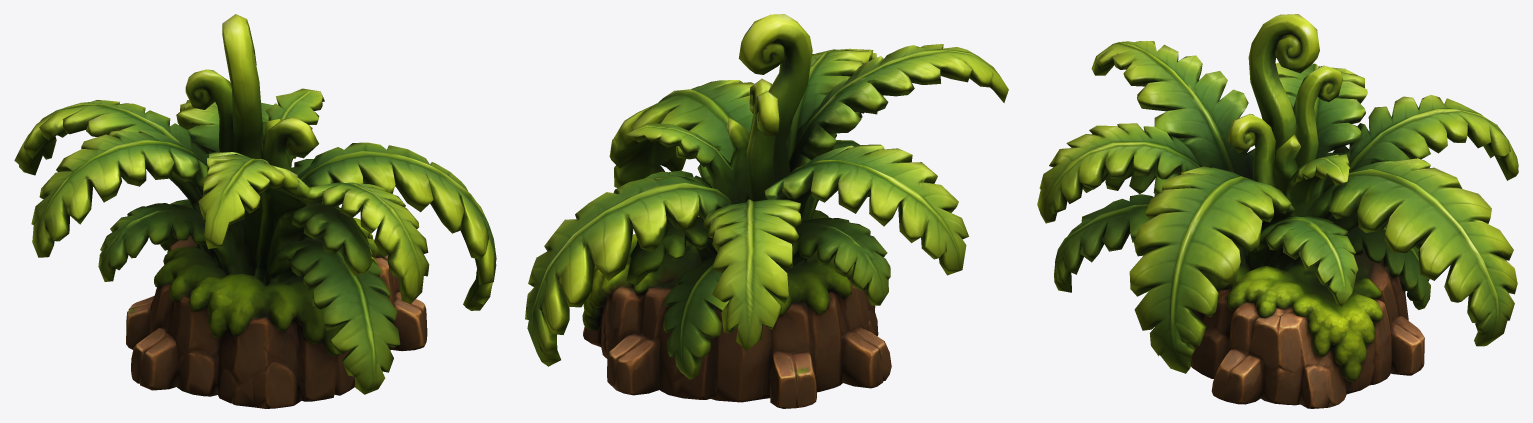
File: Kit_W_Fern_HD_src.glb
3 renders of one model, left to right at view 1: azimuth 30°, elevation 25°; view 2: azimuth 150°, elevation 25°; view 3: azimuth 270°, elevation 25°, orthographic. The views are drawn at different scales.
Parts seen in each view (by area): view 1: tripo_node_b3988d39-445f-4dc4-aea5-139bca681384; view 2: tripo_node_b3988d39-445f-4dc4-aea5-139bca681384; view 3: tripo_node_b3988d39-445f-4dc4-aea5-139bca681384.
Boxes of the visible parts, x1,y1,x2,y2 form: tripo_node_b3988d39-445f-4dc4-aea5-139bca681384: (14,14,496,408); tripo_node_b3988d39-445f-4dc4-aea5-139bca681384: (525,14,1008,408); tripo_node_b3988d39-445f-4dc4-aea5-139bca681384: (1037,14,1518,408).
Size of the model in its own units: 0.8763 by 0.7142 by 0.9811.
Materials: 1 (1 with a texture image).
